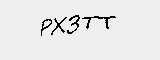З: (66, 12, 81, 35)
Р: (40, 17, 52, 37)
Т: (96, 14, 118, 32), (81, 14, 96, 31)
Х: (49, 15, 67, 37)
